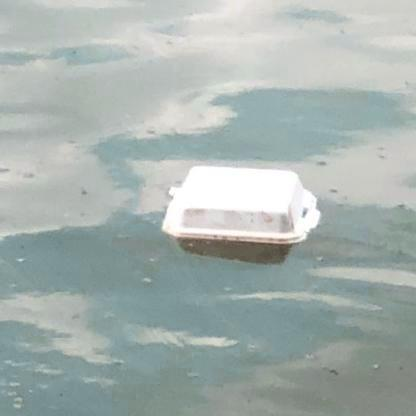Plastic: (157, 162, 324, 246)
